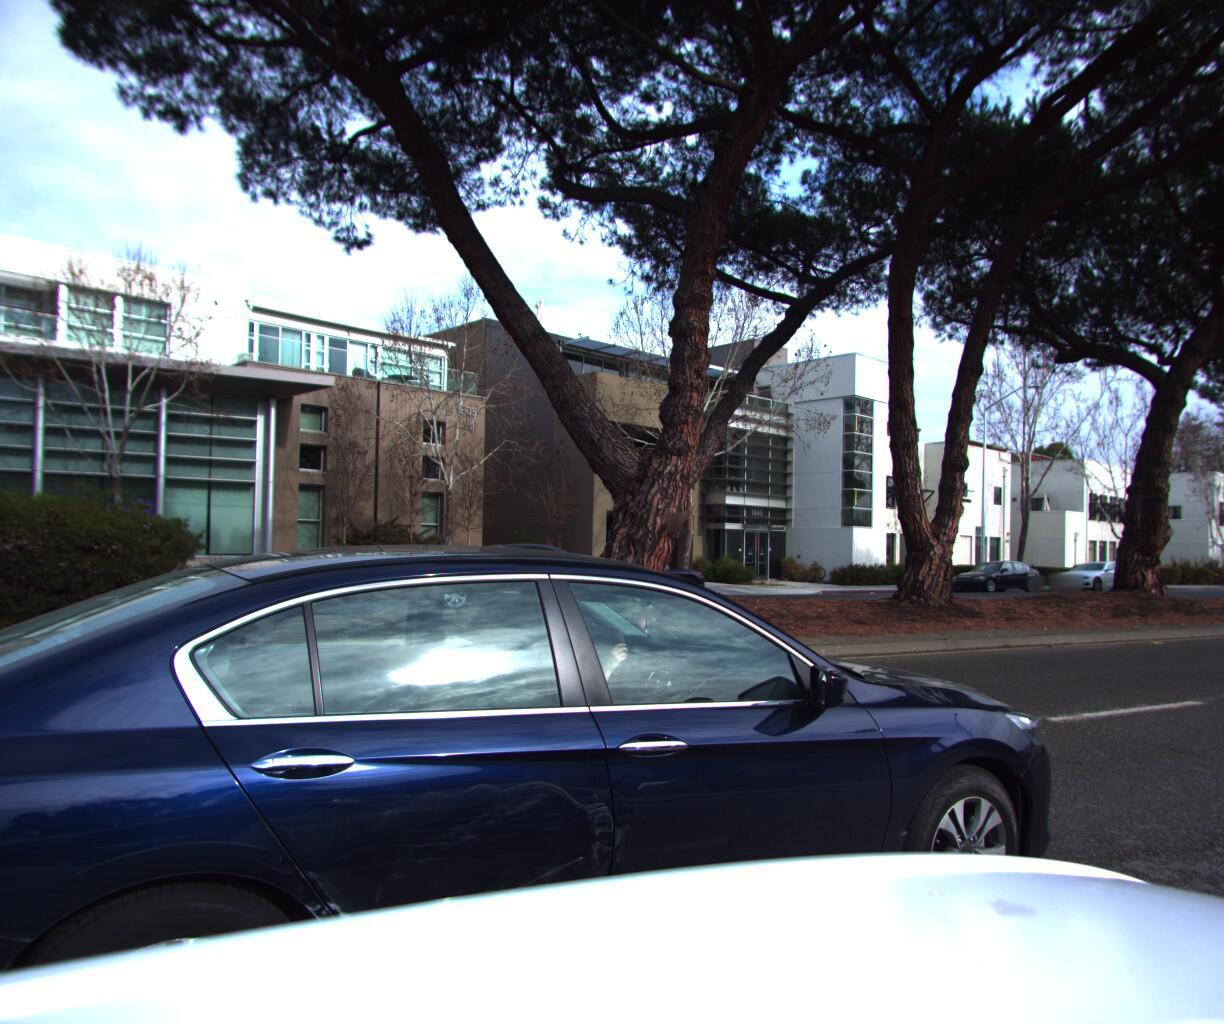car: (379, 538, 599, 610), (248, 543, 450, 603), (577, 553, 715, 597), (940, 554, 1045, 591), (1043, 553, 1142, 589)
